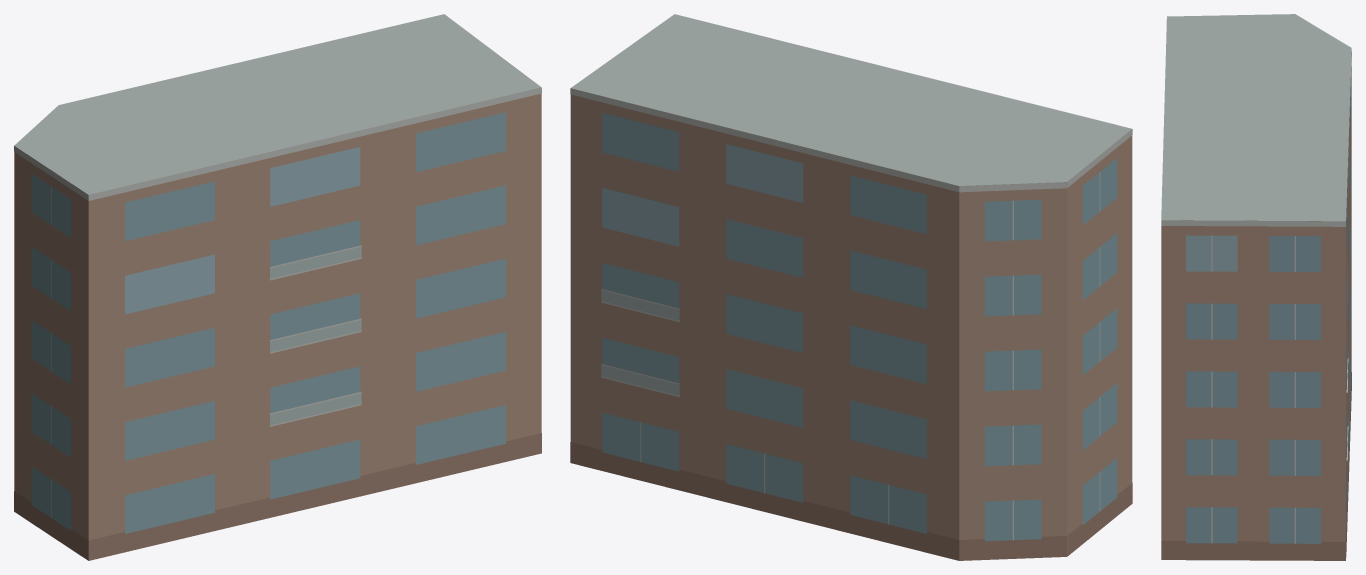
Rendered from survey-upis-32783447.glb.
The picture shows the model from 3 angles, left to right: view 1: azimuth 30°, elevation 25°; view 2: azimuth 150°, elevation 25°; view 3: azimuth 270°, elevation 25°; orthographic projection. The views are drawn at different scales.
Parts seen in each view (by area): view 1: survey-upis-32783447.tmp; view 2: survey-upis-32783447.tmp; view 3: survey-upis-32783447.tmp.
Boxes of the visible parts, <box> form: survey-upis-32783447.tmp: <box>14,14,541,560</box>; survey-upis-32783447.tmp: <box>570,14,1132,560</box>; survey-upis-32783447.tmp: <box>1161,14,1351,560</box>.
Size of the model in its own units: 19.25 by 14.7 by 7.49.
